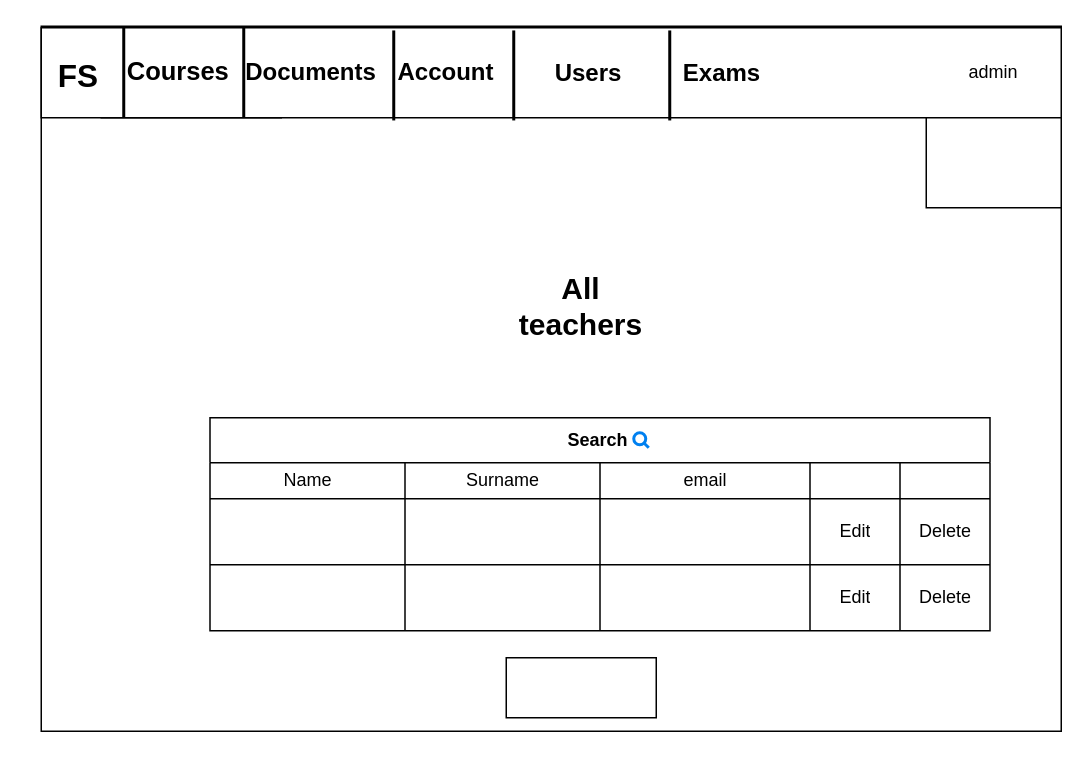
This 1088x758 diagram has some shape labels left out. The centre of each missing label's shape, as x and y in pixels:
Add teacher: (x=580, y=687)
Logout: (x=993, y=162)
